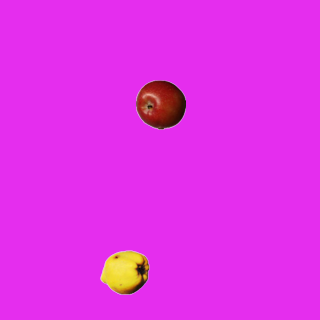Apple Braeburn: (135, 79, 185, 129)
Quince: (99, 247, 149, 297)
